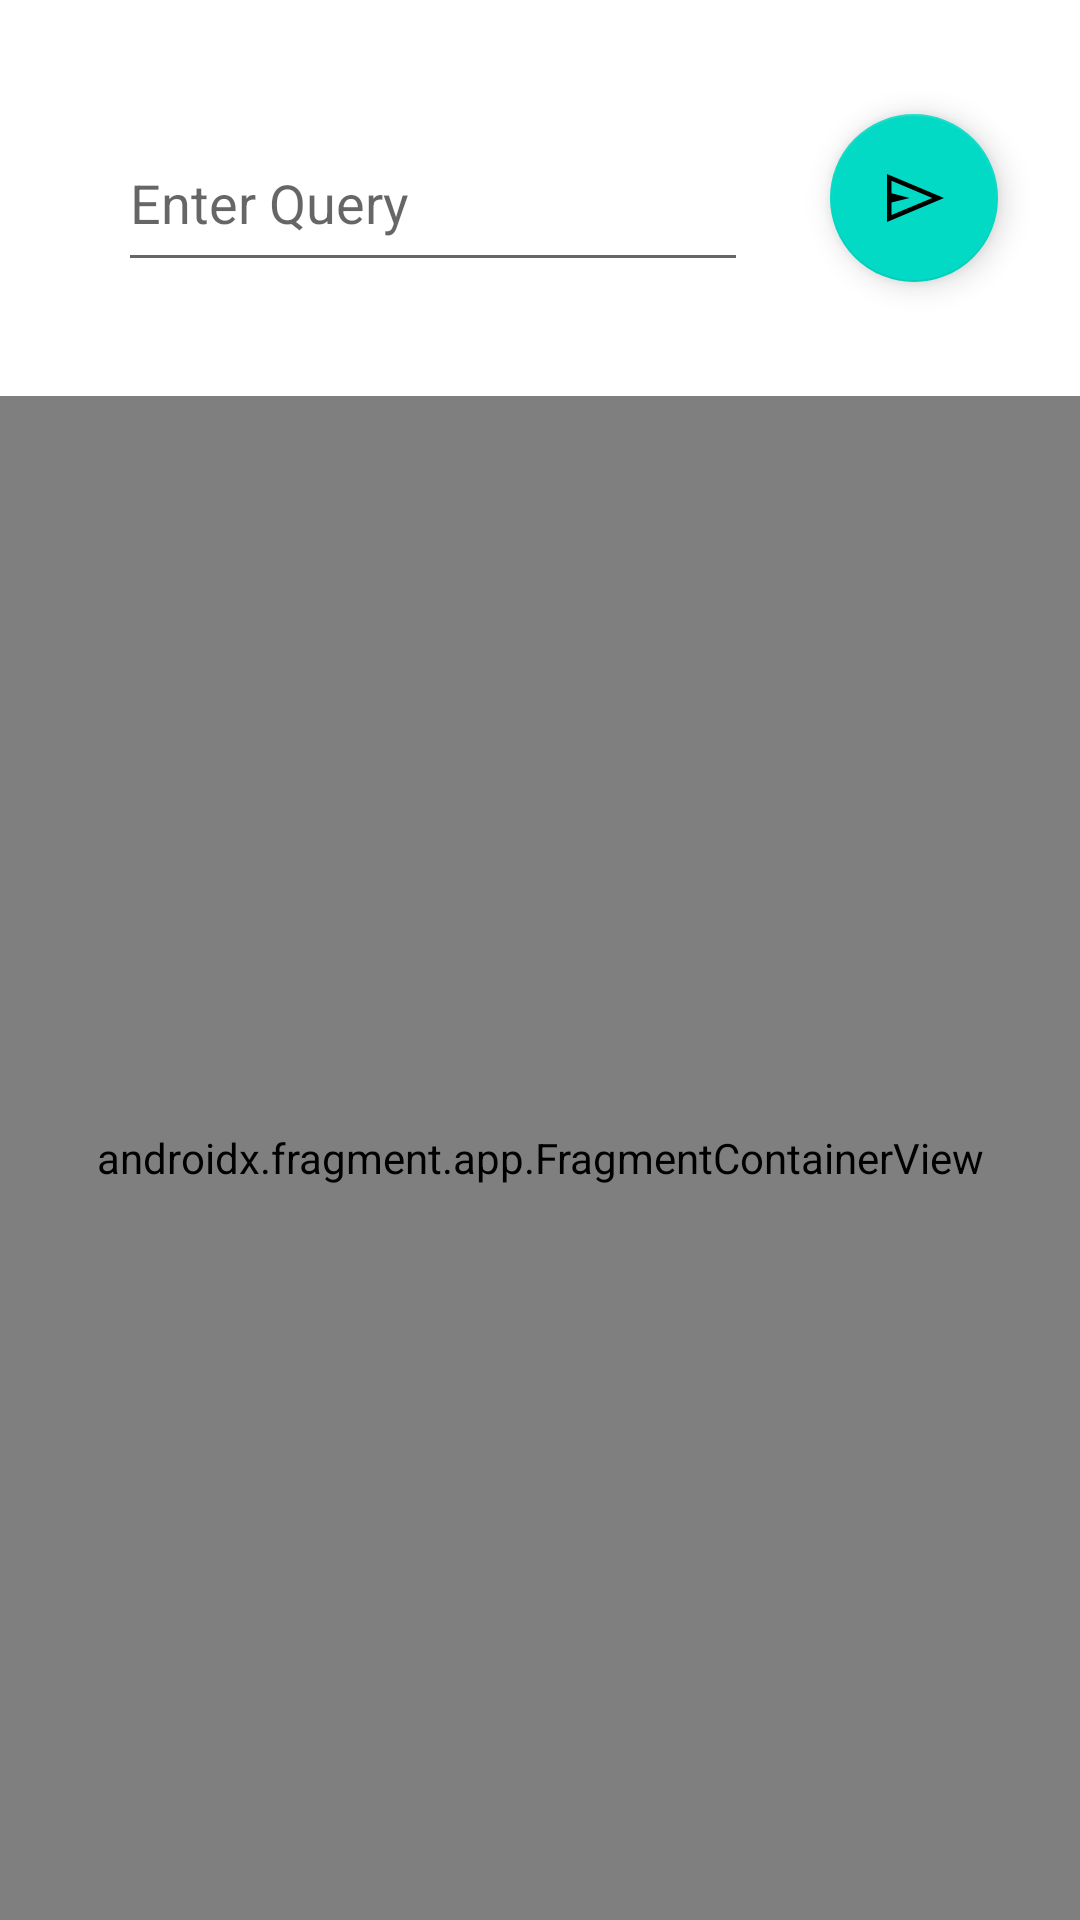

Icon click points for this 1080×1920 phone screenshot, format point (x, y):
send: point (914, 198)
